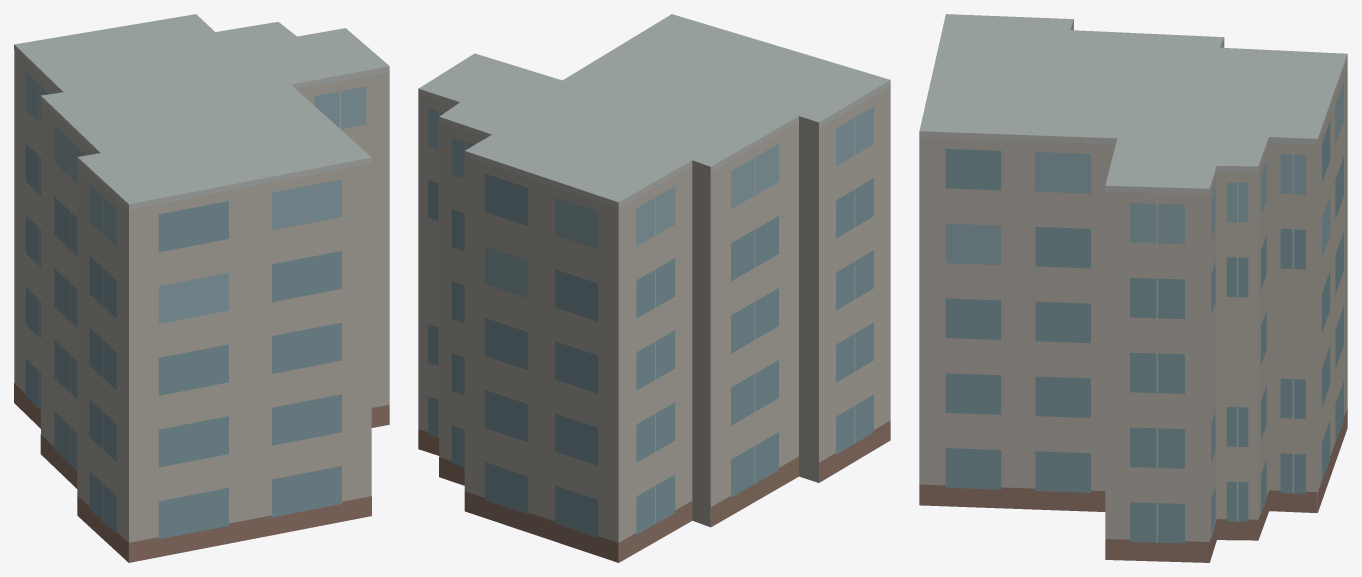
The model's file is survey-upis-32874592.glb.
3 renders of one model, left to right at view 1: azimuth 30°, elevation 25°; view 2: azimuth 150°, elevation 25°; view 3: azimuth 270°, elevation 25°, orthographic. The views are drawn at different scales.
Parts seen in each view (by area): view 1: survey-upis-32874592.tmp; view 2: survey-upis-32874592.tmp; view 3: survey-upis-32874592.tmp.
Boxes of the visible parts, <box> form: survey-upis-32874592.tmp: <box>14,14,389,562</box>; survey-upis-32874592.tmp: <box>418,14,890,562</box>; survey-upis-32874592.tmp: <box>919,14,1347,562</box>.
Bounding box in the file's own units: 15.34 × 15.3 × 15.88.
